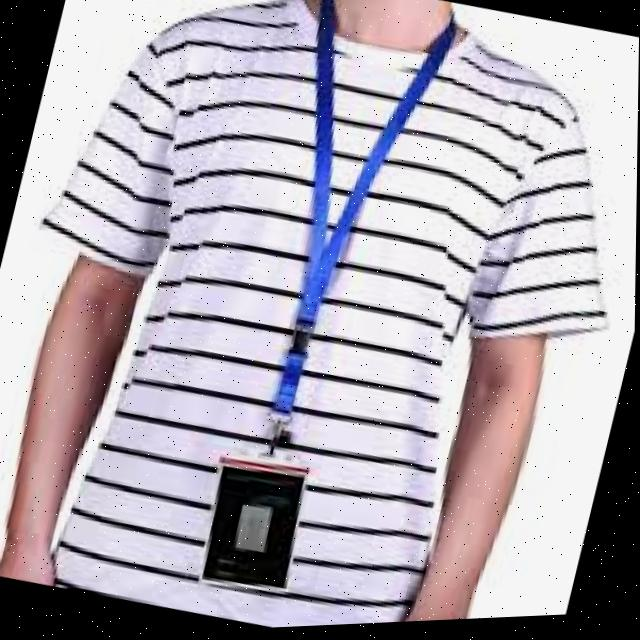id_card: (165, 0, 458, 622)
